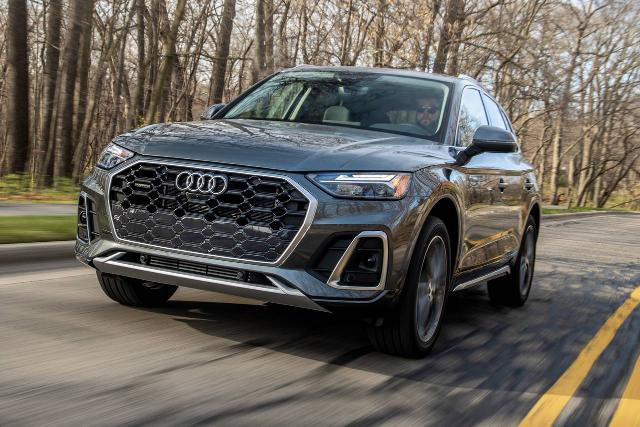audi: (74, 64, 542, 354)
